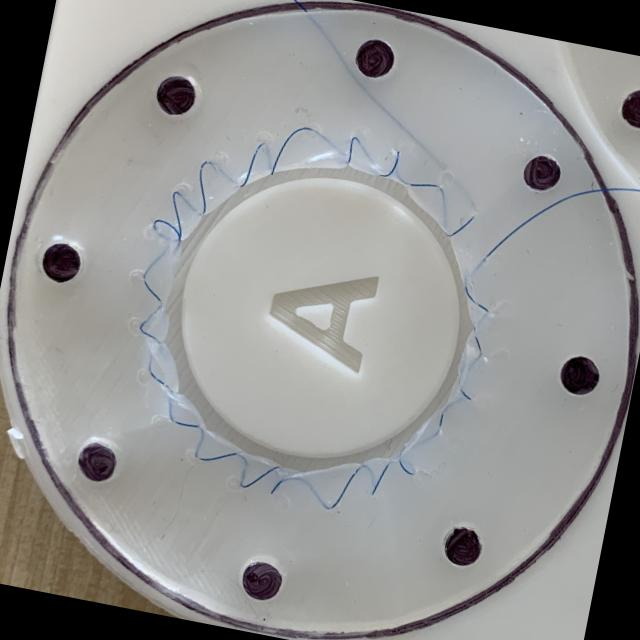suture: (484, 186, 640, 261), (270, 127, 314, 176), (330, 467, 361, 509), (237, 144, 263, 187), (241, 466, 280, 488), (442, 215, 475, 238), (153, 219, 181, 244), (465, 285, 489, 312), (372, 463, 389, 496), (200, 161, 210, 215), (380, 151, 400, 178), (149, 370, 171, 391), (139, 322, 160, 342), (173, 191, 182, 237), (144, 280, 162, 302), (346, 137, 358, 164), (198, 453, 237, 461), (405, 182, 444, 190), (171, 419, 201, 428), (400, 459, 416, 475), (473, 327, 482, 354), (271, 480, 282, 495), (460, 388, 471, 400), (439, 412, 443, 428)
